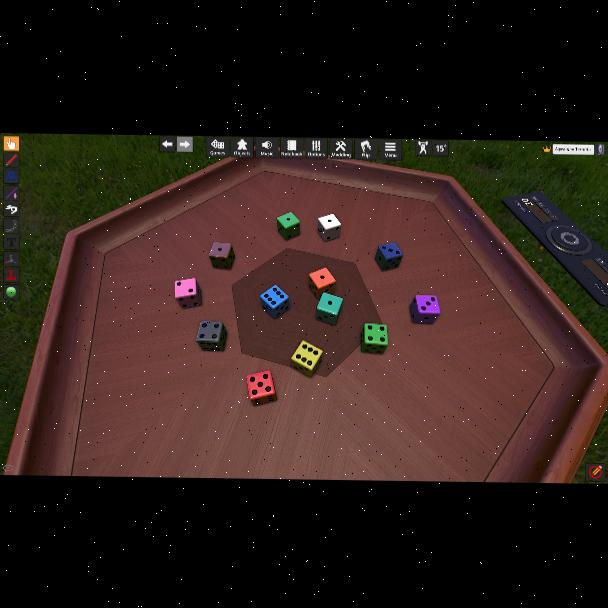d6: (259, 285, 291, 321), (291, 340, 321, 377), (246, 369, 276, 405), (194, 321, 224, 351), (174, 277, 202, 308), (409, 295, 437, 325), (316, 293, 342, 325), (309, 268, 334, 301), (361, 323, 387, 354), (374, 242, 400, 272), (277, 212, 301, 241), (209, 242, 233, 270), (316, 214, 338, 244)
